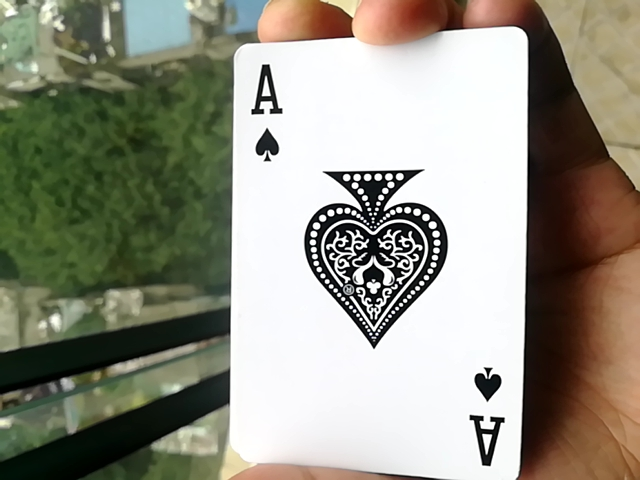ht a: (213, 48, 544, 478)
